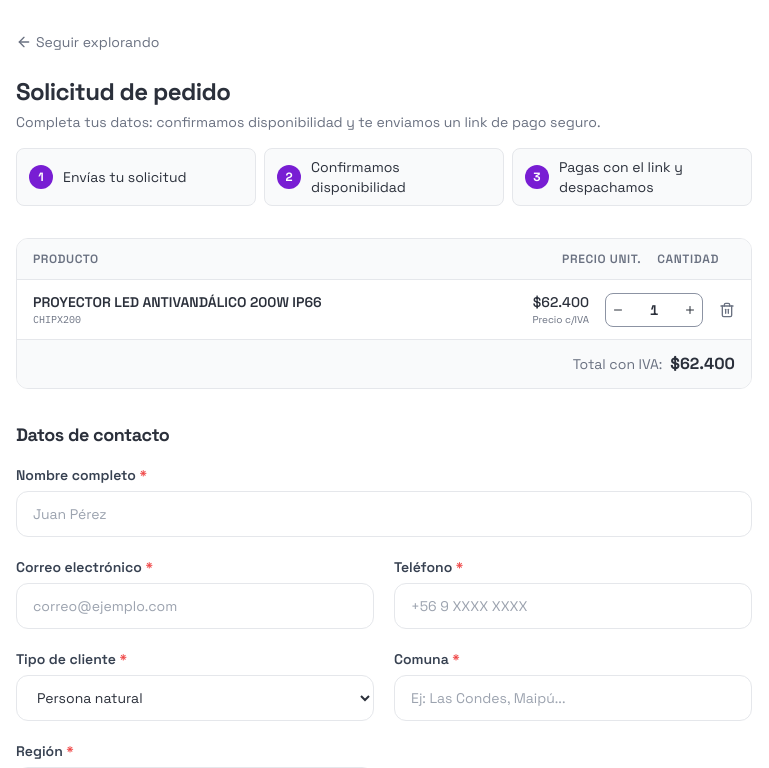
it: /solicitar-pedido: casillas de privacidad, términos y novedades › con el resto inválido, solo el error del resto: el de la casilla no aparece
The image size is (769, 768).
Type "PRUEBA ETAPA 2 (10) - borrar" into the field labelled "Nombre completo *" at (384, 514), box [16,491,752,537]
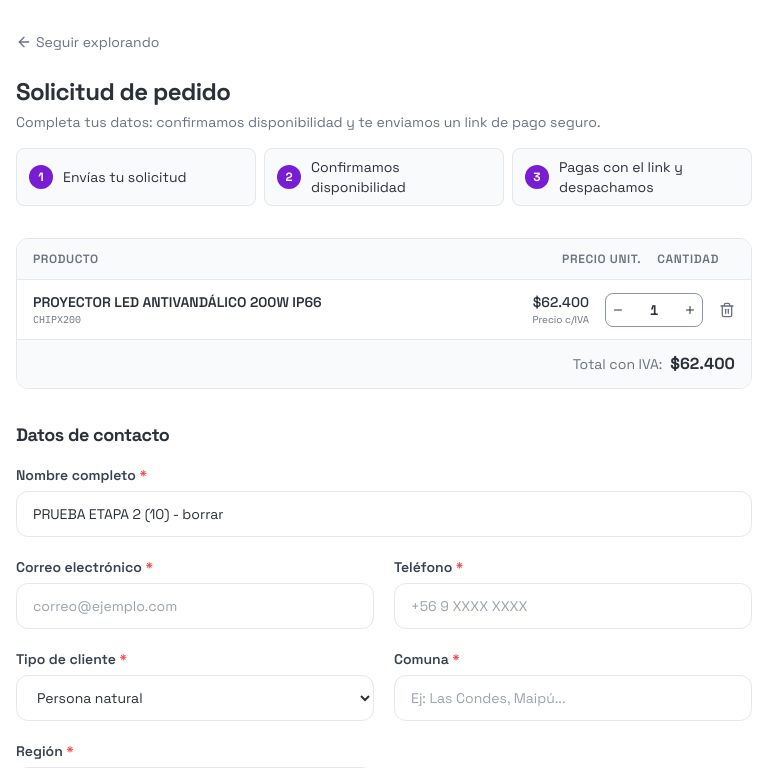
Type "prueba-etapa2-10@example.com" into the field labelled "Correo electrónico *" at (195, 606), box [16,583,374,629]
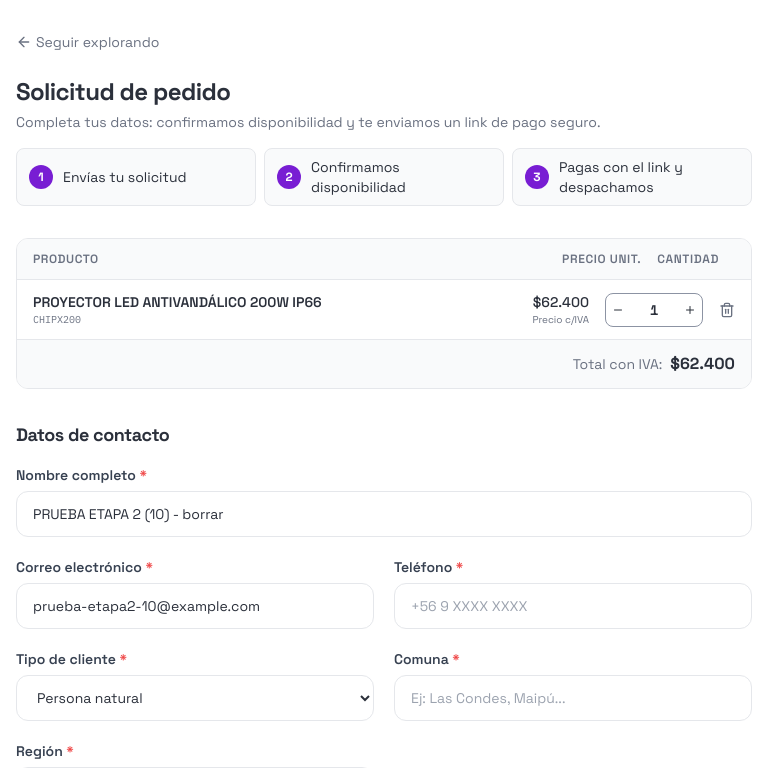
Type "+56 9 0000 0910" into the field labelled "Teléfono *" at (573, 606), box [394,583,752,629]
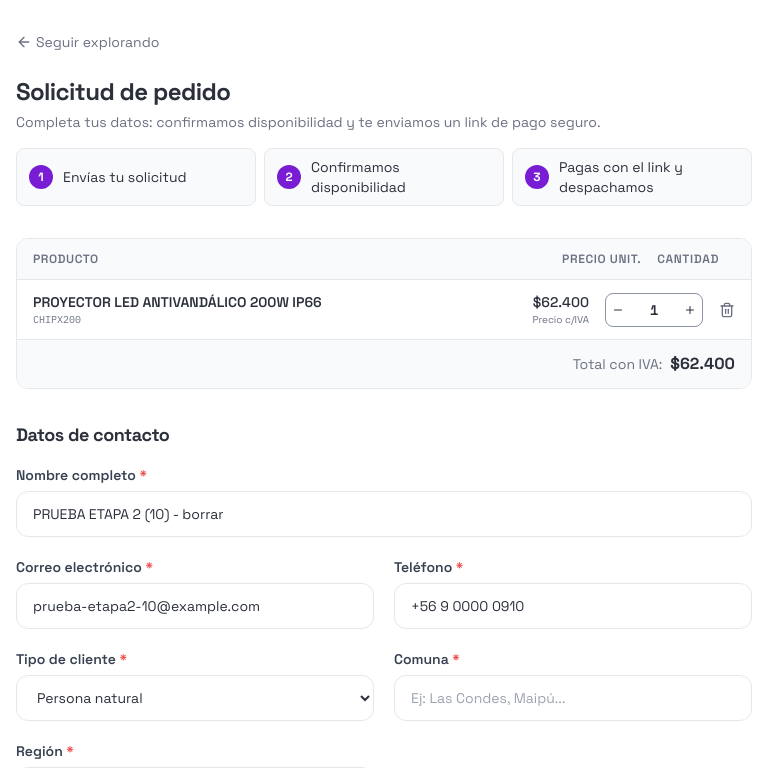
Clear the field labelled "Comuna *" at (573, 698), box [394,675,752,721]
(page scrolled)
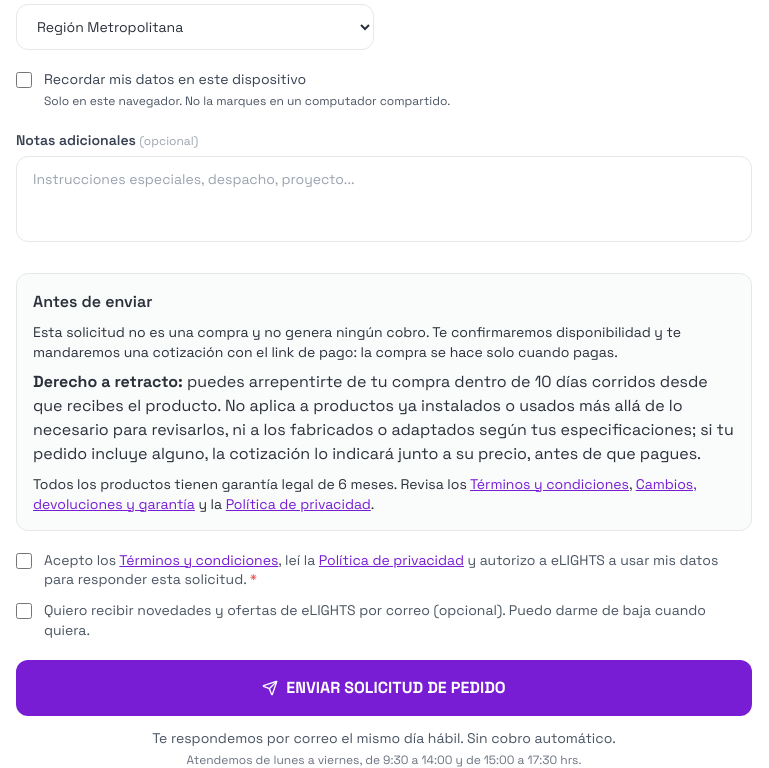
Click the button "ENVIAR SOLICITUD DE PEDIDO" at (384, 688), box [16,660,752,716]
(page scrolled)
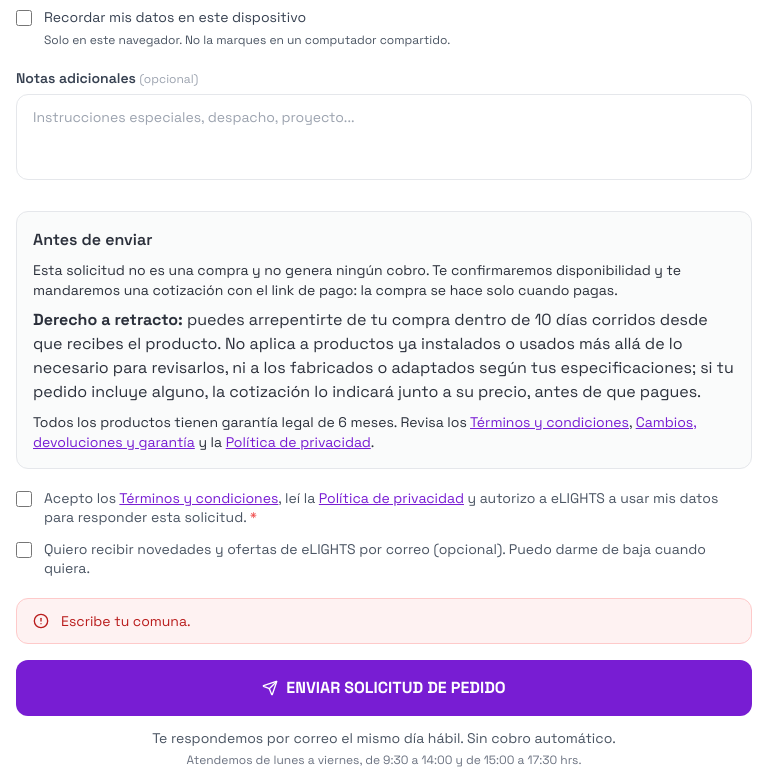
Expected: the number of messages is 1, [16,598,752,644]
Expected: the message reads "Escribe tu comuna.", [61,612,190,630]
